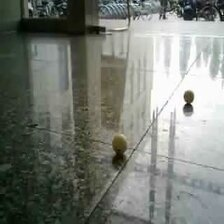w: (111, 134, 130, 156), (183, 90, 195, 105)
